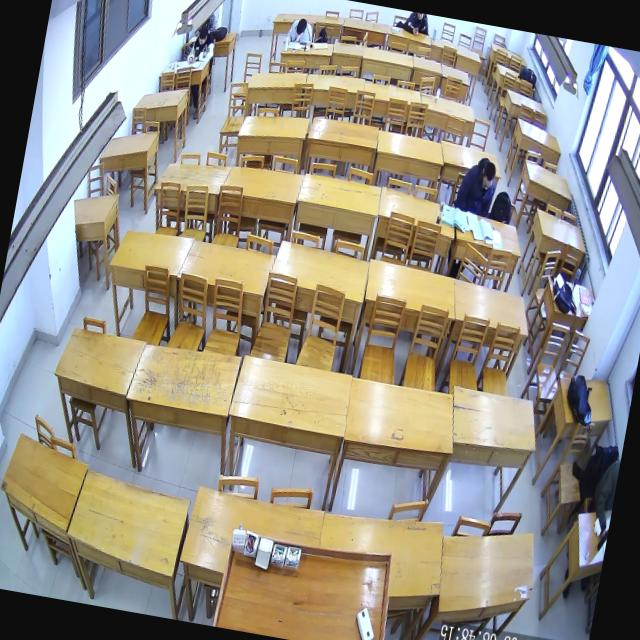bow: (286, 15, 316, 45)
down: (479, 160, 497, 191), (294, 17, 308, 36), (196, 26, 208, 46)
sit: (451, 152, 500, 218), (186, 23, 218, 68)
